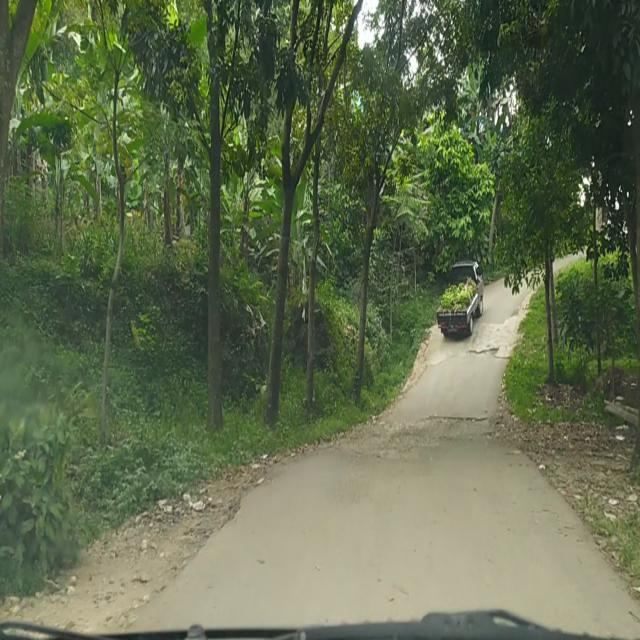Drain Hole: (324, 468, 372, 503)
